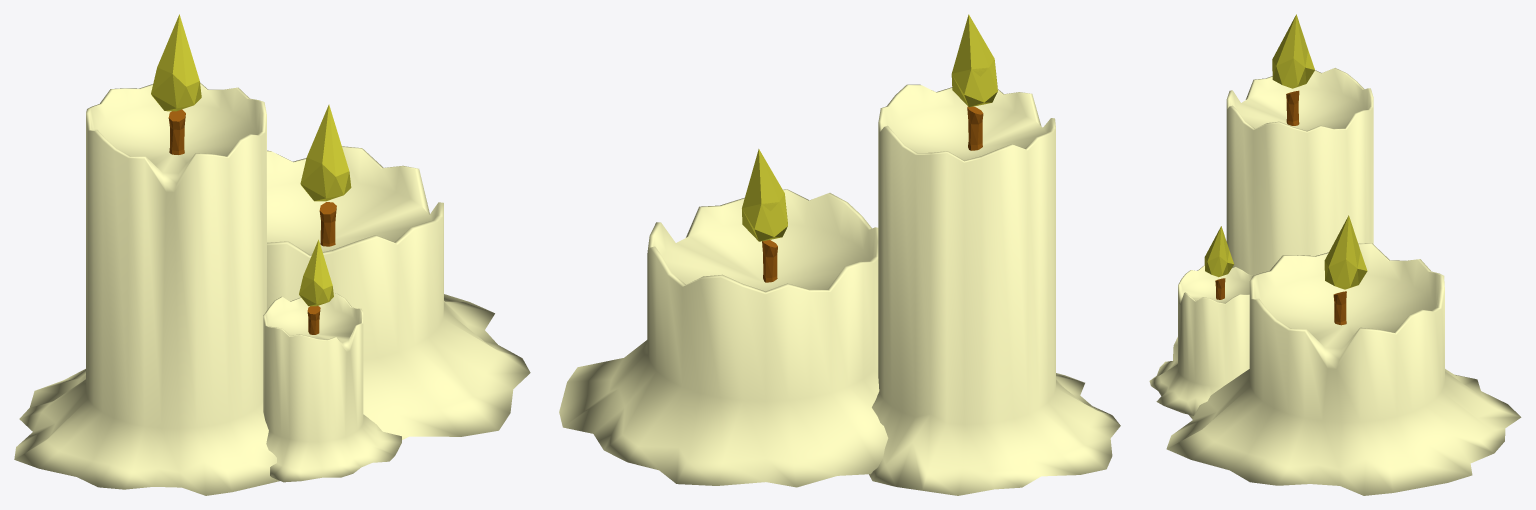
The model's file is candle3 .fbx.
3 renders of one model, left to right at view 1: azimuth 30°, elevation 25°; view 2: azimuth 150°, elevation 25°; view 3: azimuth 270°, elevation 25°, orthographic. The views are drawn at different scales.
Visible parts, largest first — view 1: Cylinder.013; view 2: Cylinder.013; view 3: Cylinder.013.
Boxes of the visible parts, box(x1,y1,x2,y2) form: Cylinder.013: box(14, 14, 530, 495); Cylinder.013: box(559, 14, 1120, 495); Cylinder.013: box(1149, 14, 1521, 495).
Size of the model in its own units: 120 by 94.11 by 93.21.
